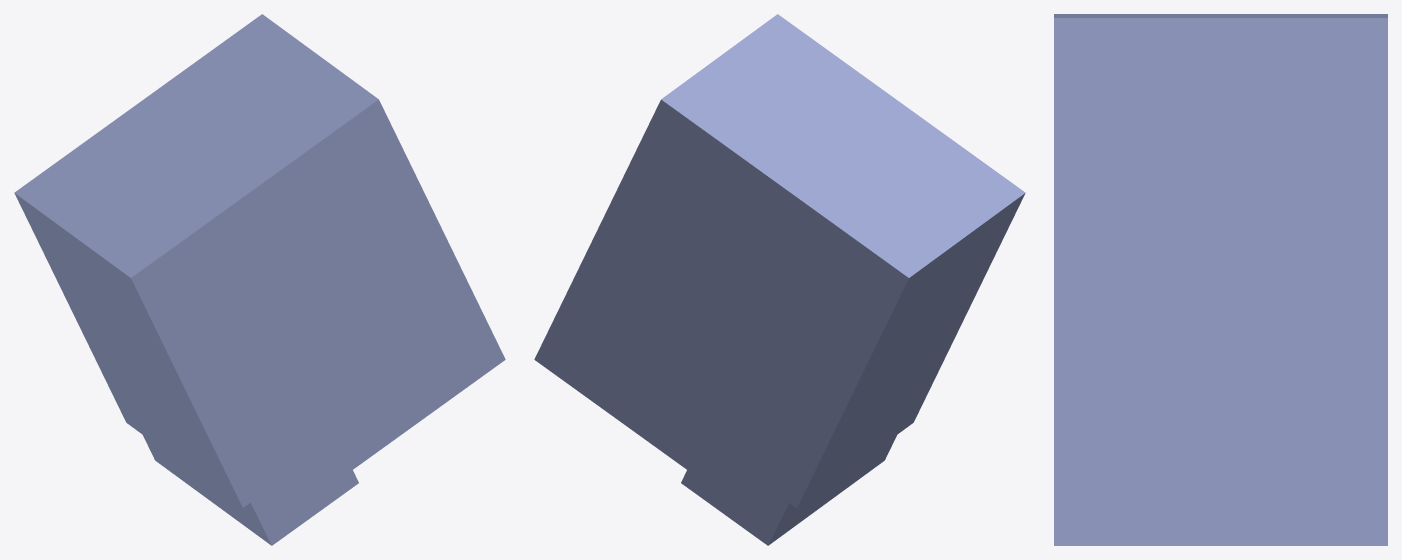
The picture shows the model from 3 angles, left to right: view 1: azimuth 30°, elevation 25°; view 2: azimuth 150°, elevation 25°; view 3: azimuth 270°, elevation 25°; orthographic projection. The views are drawn at different scales.
Parts seen in each view (by area): view 1: E7; view 2: E7; view 3: E7.
Part boxes in pixels (left/top/right/bottom): E7: left=14, top=14, right=505, bottom=545; E7: left=534, top=14, right=1025, bottom=545; E7: left=1054, top=14, right=1387, bottom=545.
Bounding box in the file's own units: 63.24 × 67.79 × 34.1.
